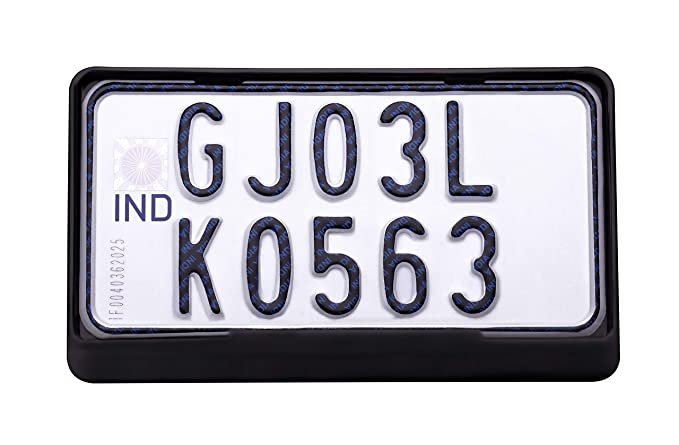doublelinenumberplate: (69, 62, 619, 346)
